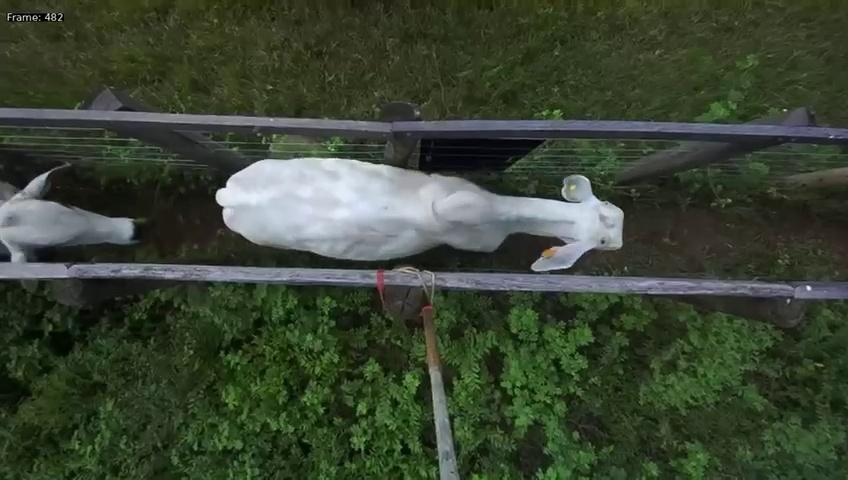cattle: (206, 125, 625, 270)
